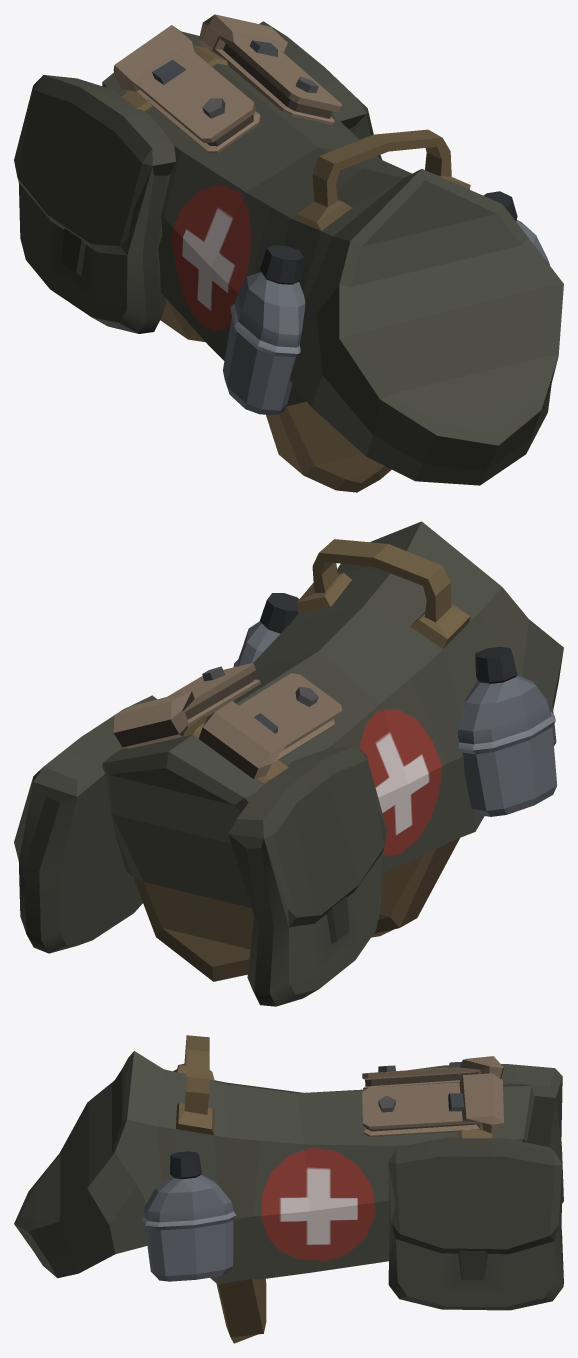
Rendered from SK_Chr_Attach_Vest_War_Large_01.fbx.
3 views of the same model, one above another, from view 1: azimuth 30°, elevation 25°; view 2: azimuth 150°, elevation 25°; view 3: azimuth 270°, elevation 25° (orthographic). The views are drawn at different scales.
Visible parts, largest first — view 1: SK_Chr_Attach_Vest_War_Large_01; view 2: SK_Chr_Attach_Vest_War_Large_01; view 3: SK_Chr_Attach_Vest_War_Large_01.
Boxes of the visible parts, x1,y1,x2,y2 form: SK_Chr_Attach_Vest_War_Large_01: (14,14,563,492); SK_Chr_Attach_Vest_War_Large_01: (14,521,563,1006); SK_Chr_Attach_Vest_War_Large_01: (14,1035,563,1343).
Size of the model in its own units: 42.57 by 48.79 by 83.18.
